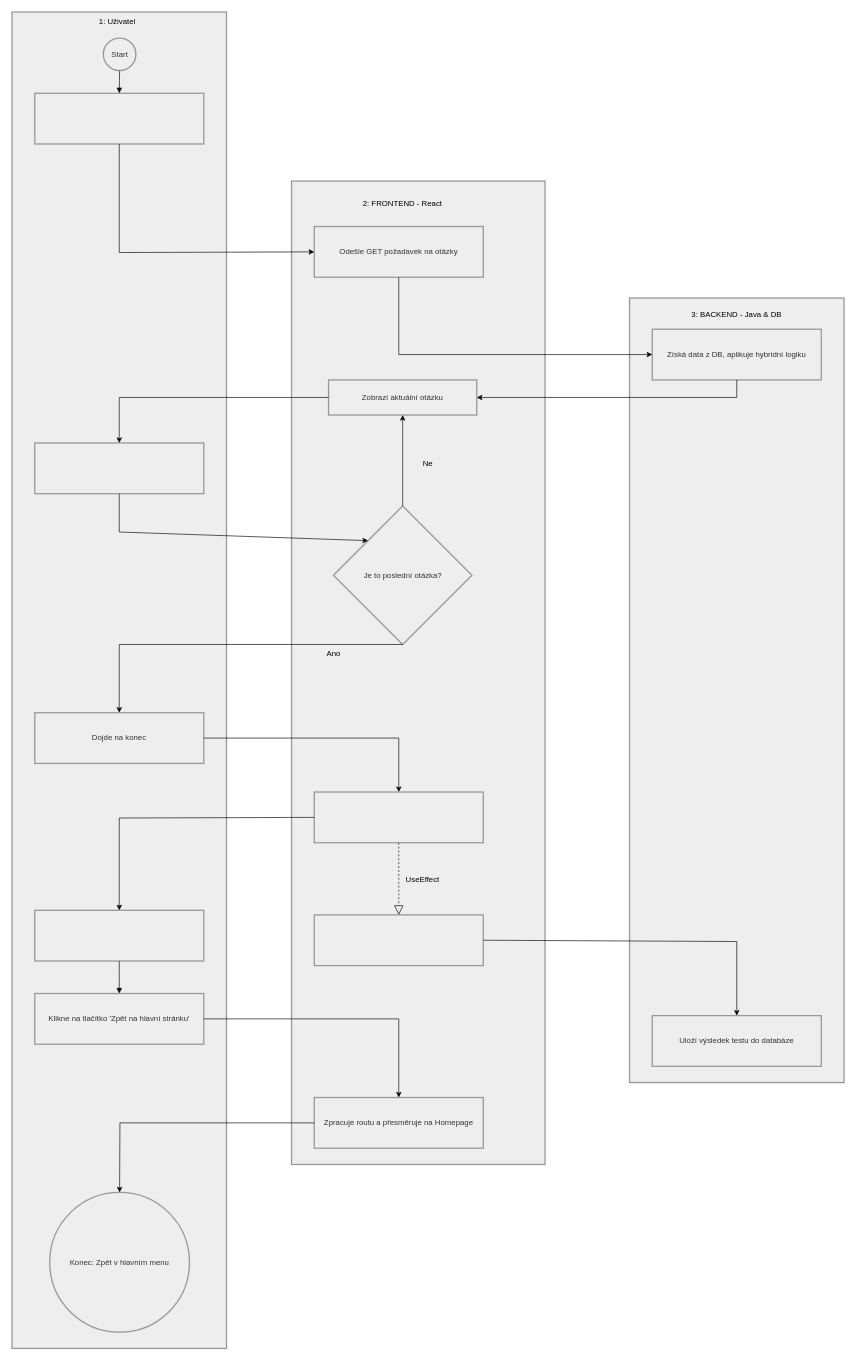
The diagram is 855 pixels wide and 1360 high, and some of its shapes have lost their labels. The centre of each missing label's shape, as x and y in pixels:
Odešle POST požadavek na pozadí: the point at 398,940
Prohlíží si své skóre na kartě: the point at 119,935
Přečte si otázku a zvolí odpověď: the point at 119,468
Vybere kvíz a klikne na 'Spustit': the point at 119,118
Změní stav a okamžitě zobrazí skóre: the point at 398,817
